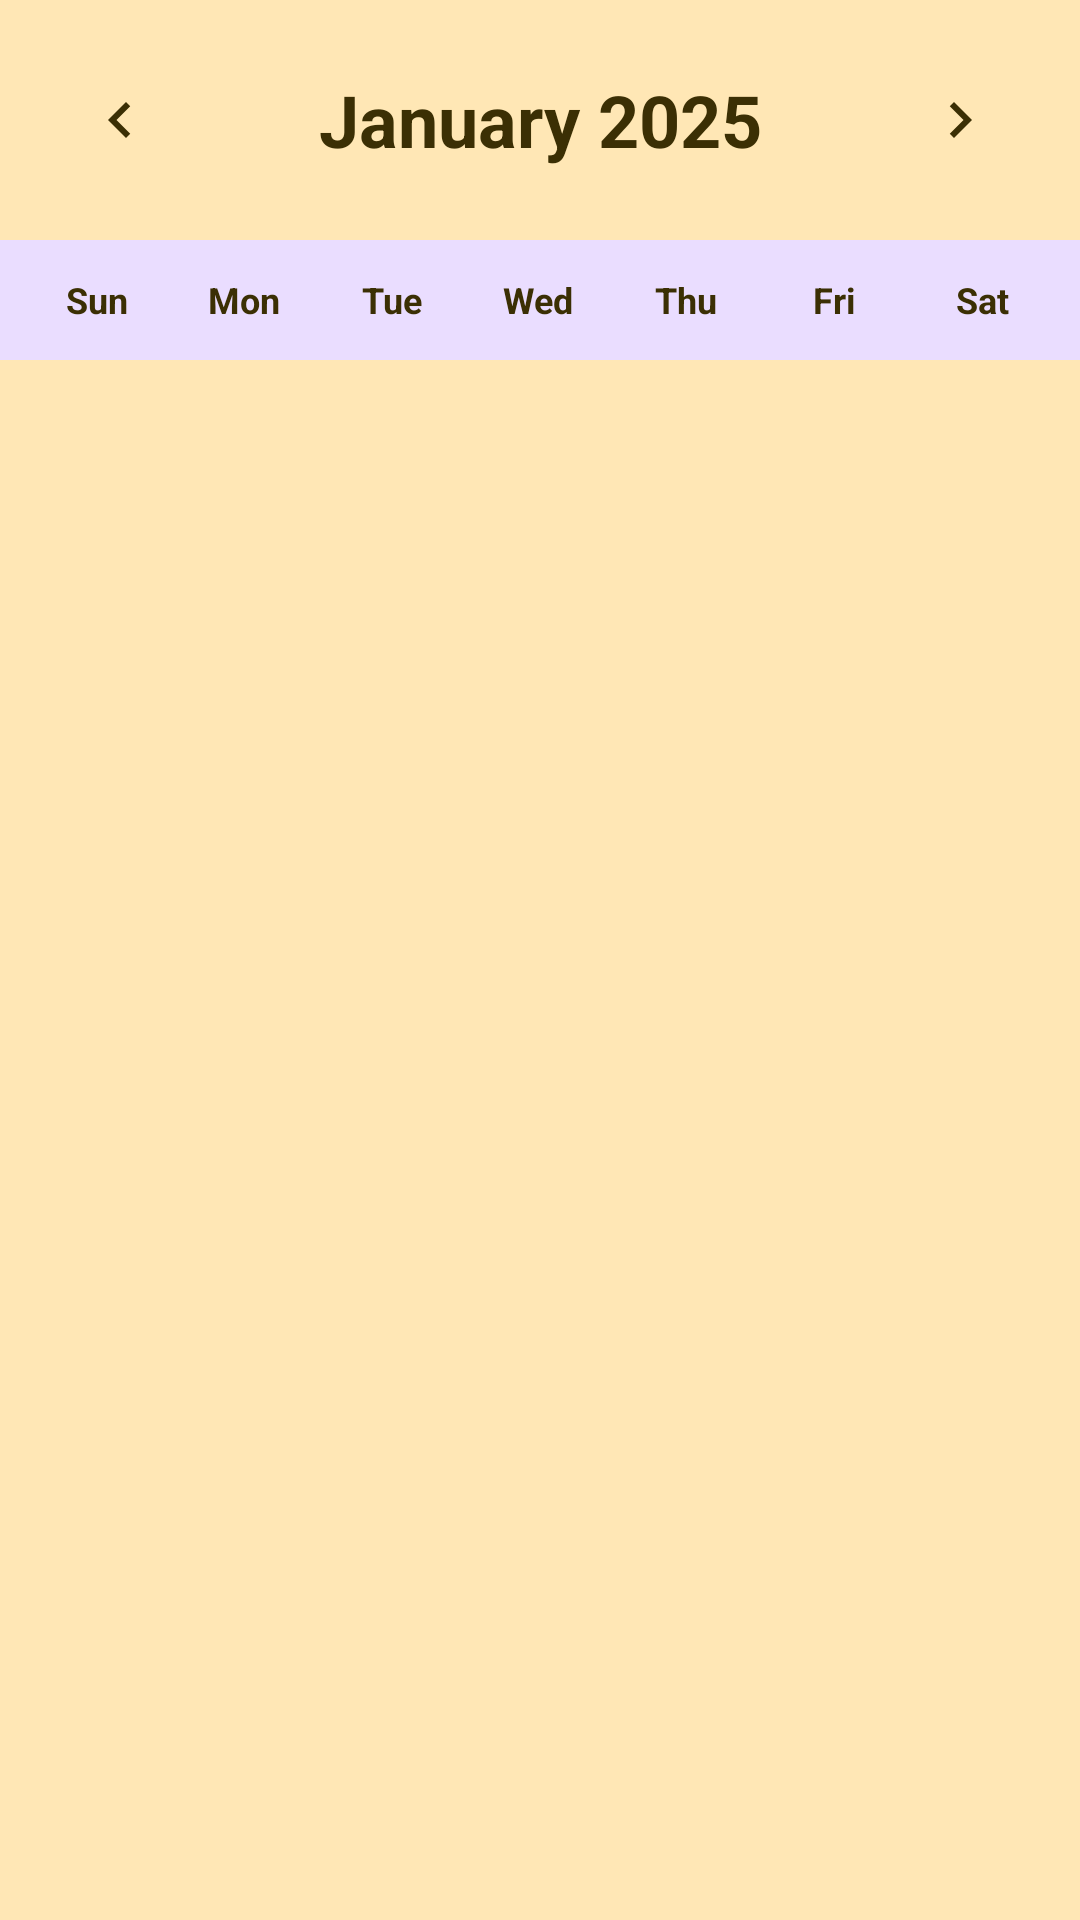

Icon bounding boxes for this 1080×1920 phone screenshot, format (x1, y1, x2, y2):
Next month: (950, 102, 972, 138)
Previous month: (108, 102, 130, 138)
